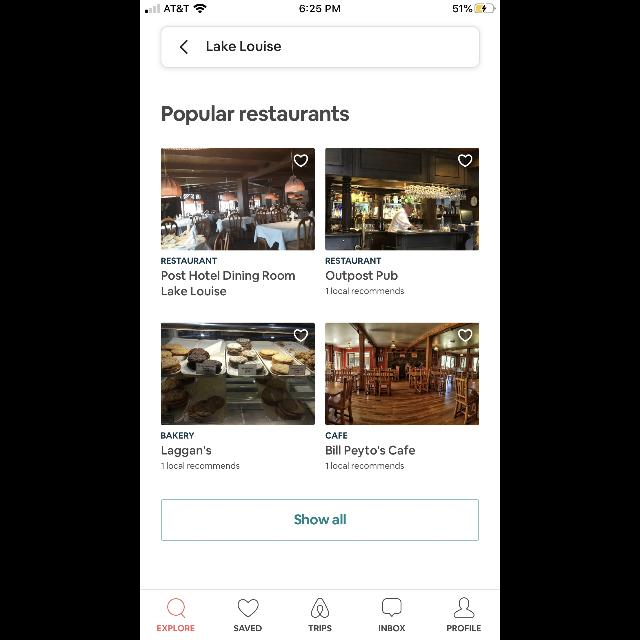icon: (382, 598, 402, 618), (454, 598, 474, 618), (168, 598, 186, 618), (238, 599, 258, 617), (311, 598, 329, 618), (294, 154, 308, 168), (458, 154, 472, 168), (294, 330, 308, 342), (458, 330, 472, 342), (180, 40, 188, 54)
image: (161, 148, 315, 250), (325, 148, 479, 250), (161, 323, 315, 425), (326, 323, 478, 425)
input: (160, 26, 480, 68)
text: (162, 105, 350, 125), (162, 270, 294, 296), (326, 445, 416, 457), (207, 40, 281, 51), (326, 272, 398, 282), (162, 462, 240, 470), (326, 462, 404, 470), (162, 447, 212, 458), (326, 288, 404, 294), (325, 258, 381, 264), (162, 258, 216, 264), (158, 625, 195, 631), (447, 625, 481, 631), (162, 433, 194, 439), (234, 625, 262, 631), (379, 625, 405, 631), (308, 625, 332, 631), (326, 432, 348, 438)
textbutton: (161, 499, 479, 541)
uppertaskbar: (140, 0, 500, 14)
